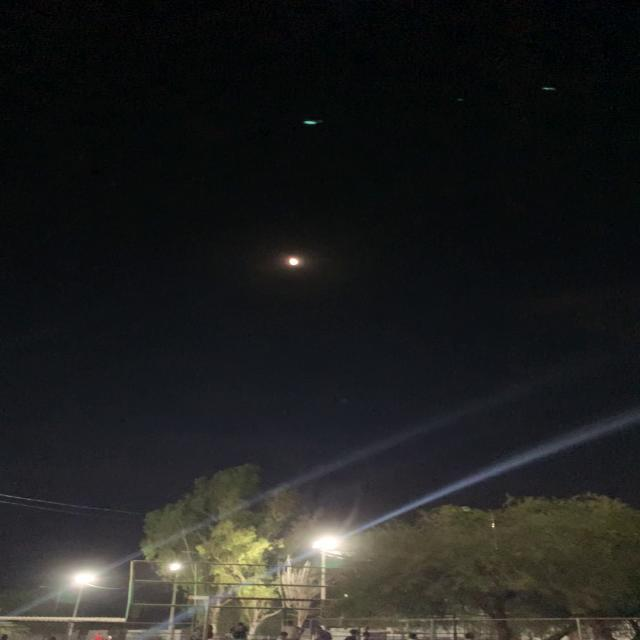moon: (285, 239, 308, 269)
